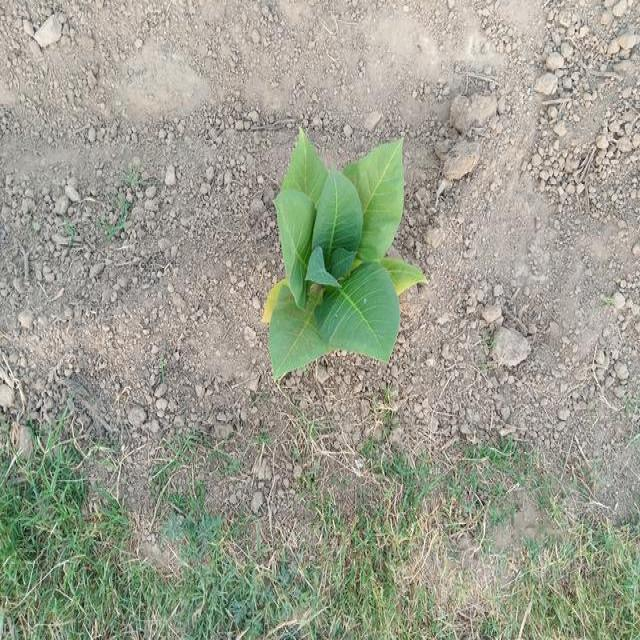crop: (264, 140, 430, 379)
